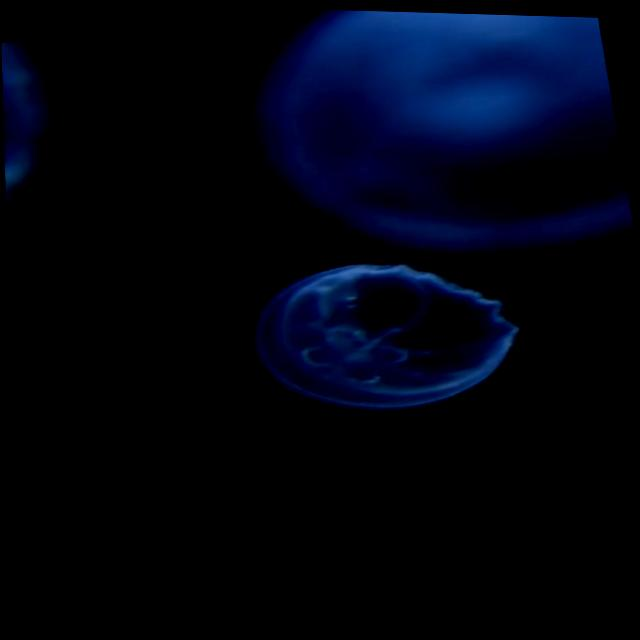Moon-jellyfish: (230, 7, 634, 266), (246, 259, 517, 411), (1, 39, 58, 215)
